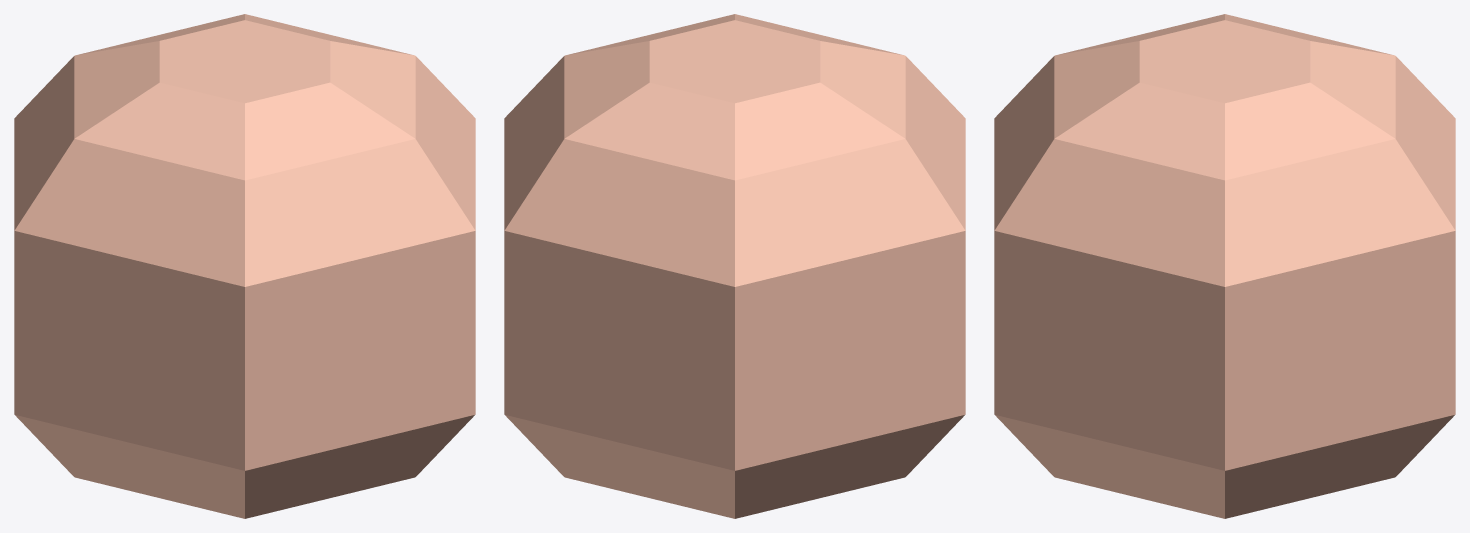
File: meteor.glb
The picture shows the model from 3 angles, left to right: view 1: azimuth 30°, elevation 25°; view 2: azimuth 150°, elevation 25°; view 3: azimuth 270°, elevation 25°; orthographic projection.
Parts seen in each view (by area): view 1: meteor; view 2: meteor; view 3: meteor.
Part boxes in pixels (x1,y1,x2,y2): meteor: [14, 14, 475, 518]; meteor: [504, 14, 965, 518]; meteor: [994, 14, 1455, 518].
Bounding box in the file's own units: 0.866 × 0.735 × 0.75.
